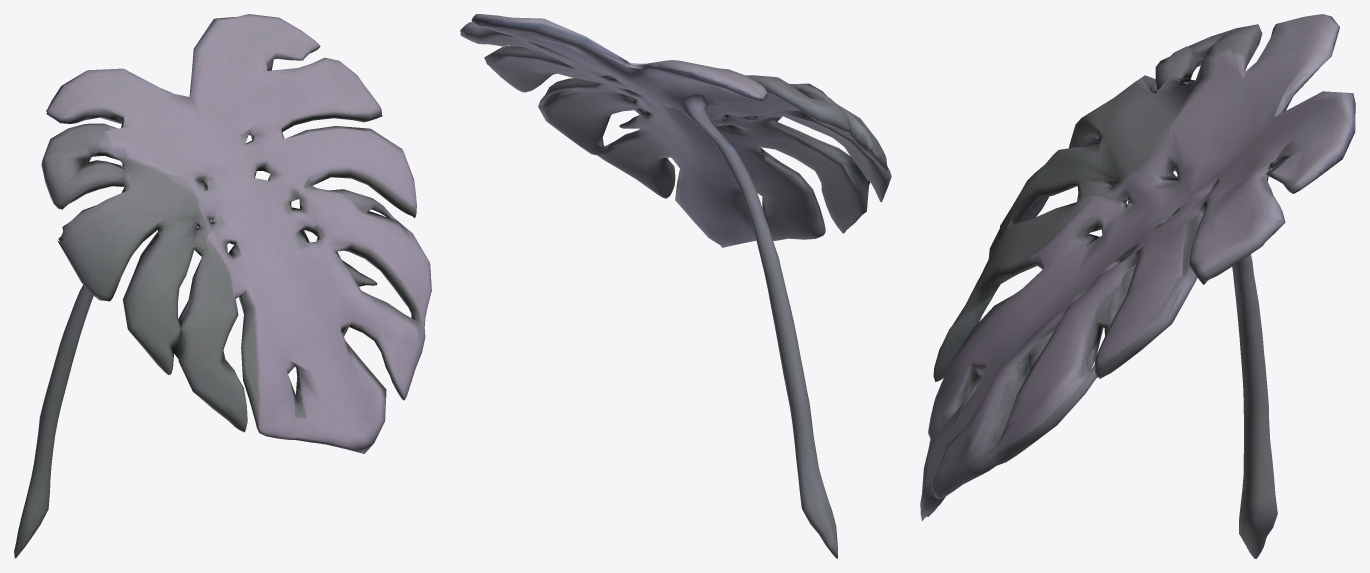
The model's file is mon_mauve_v2.glb.
3 views of the same model, side by side, from view 1: azimuth 30°, elevation 25°; view 2: azimuth 150°, elevation 25°; view 3: azimuth 270°, elevation 25° (orthographic). The views are drawn at different scales.
Parts seen in each view (by area): view 1: world; view 2: world; view 3: world.
Boxes of the visible parts, x1,y1,x2,y2 form: world: (14,14,431,558); world: (460,14,891,558); world: (920,14,1355,558).
Size of the model in its own units: 1.63 by 2 by 1.26.
Materials: 1 (1 with a texture image).
